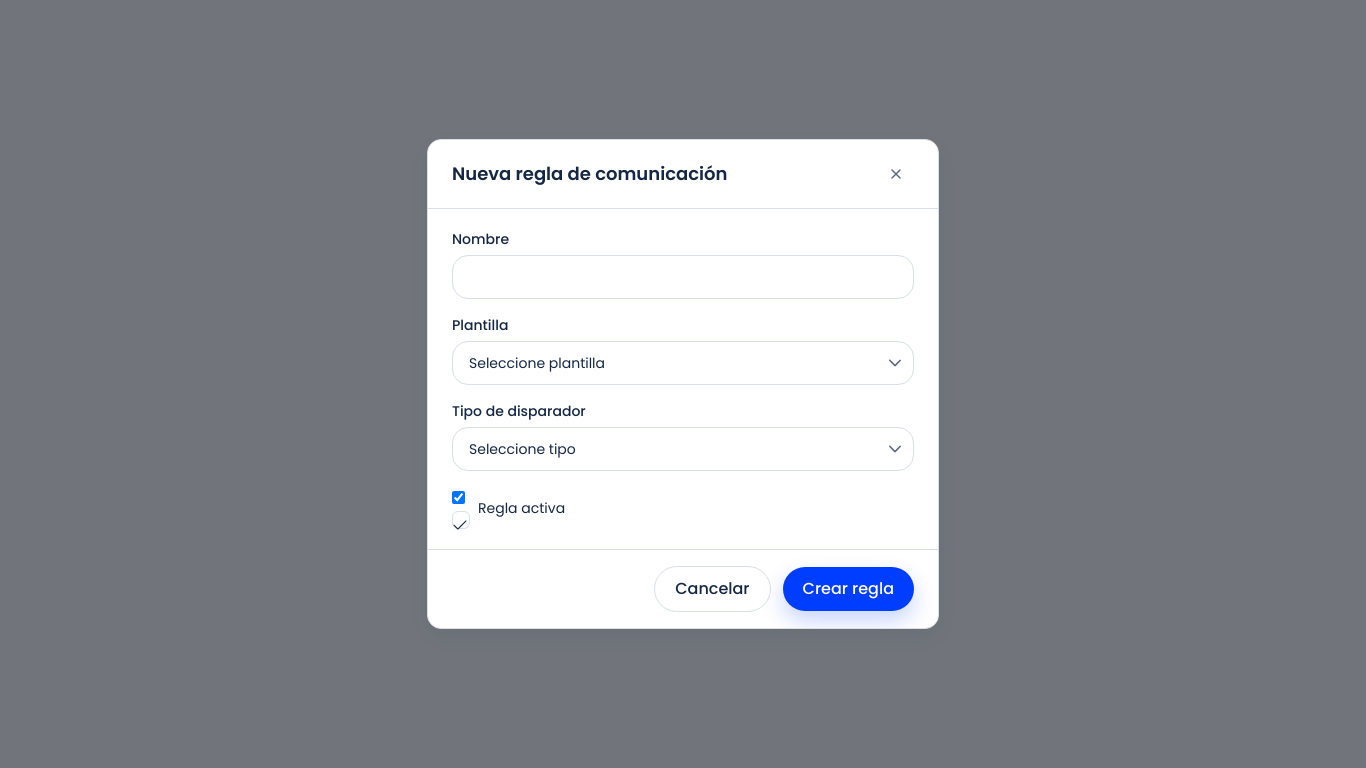
Test: RuleFormDialog › muestra validación si falta plantilla al guardar
Type "R1" into the field labelled "Nombre". click: (683, 277)
box: [452, 255, 914, 299]
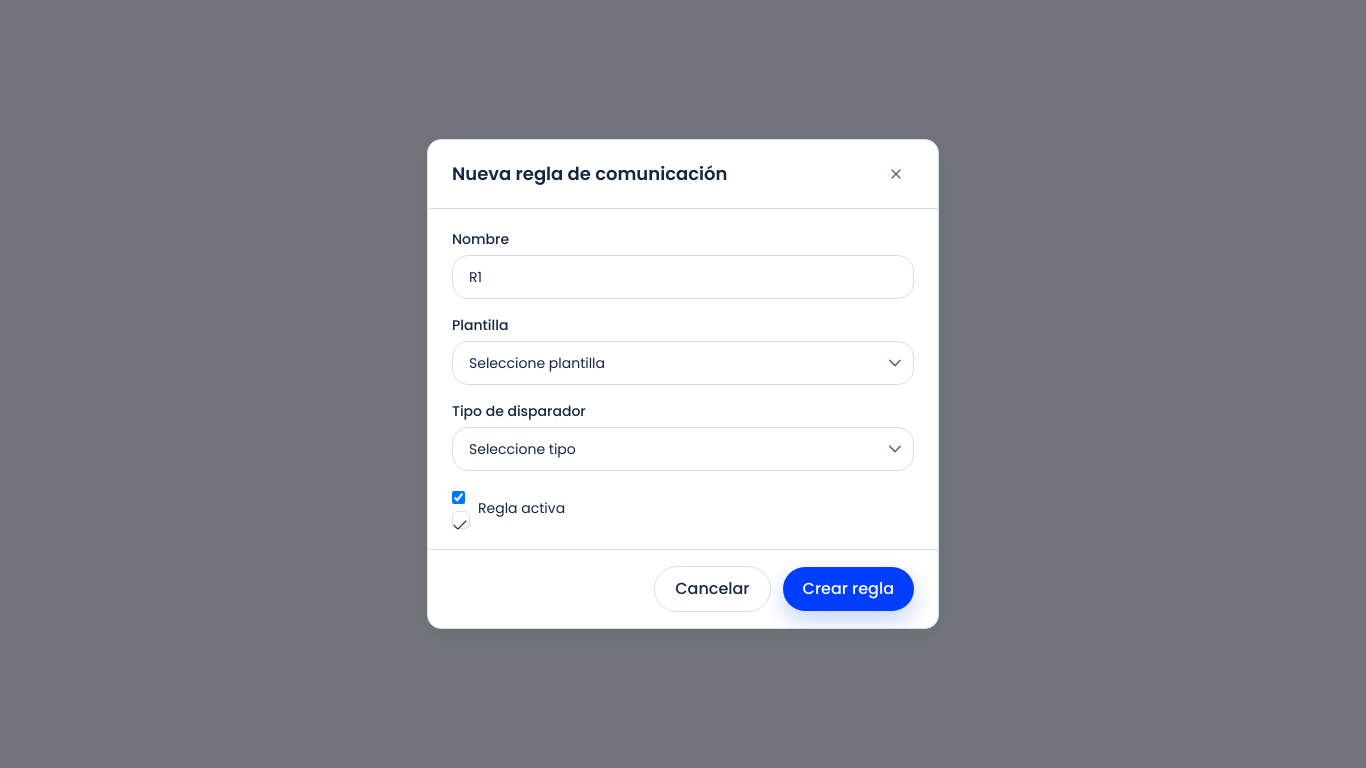
Click the button with test id "rule-form-submit". click: (848, 589)
box: [782, 567, 914, 611]
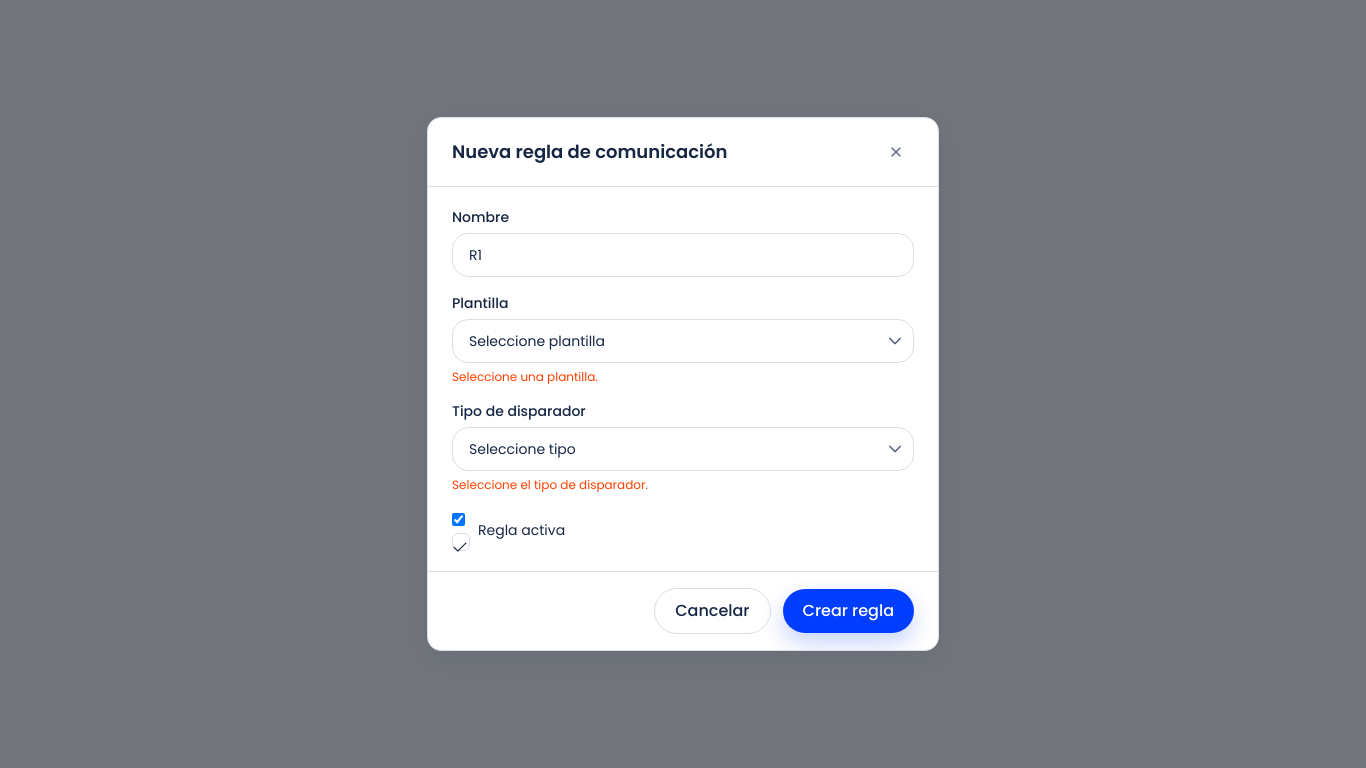
Result: the text "Seleccione una plantilla." is shown at [452, 368, 598, 385]
